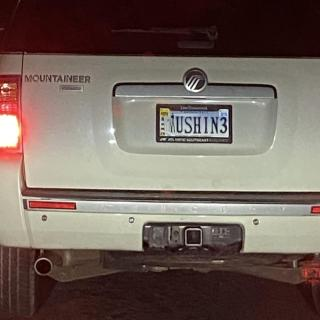license: (156, 104, 234, 145)
